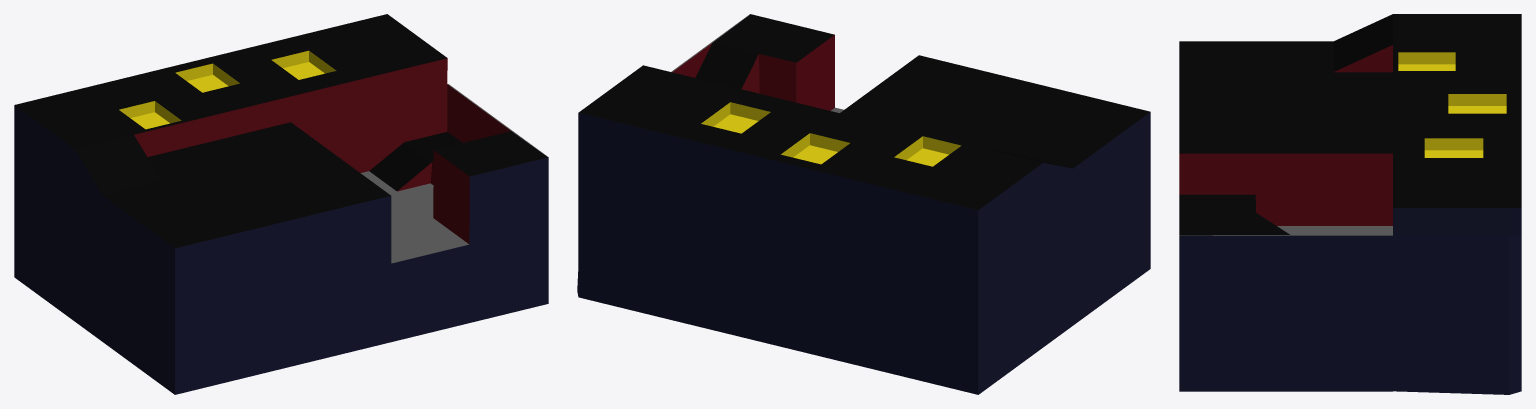
The model's file is first level tower.fbx.
The picture shows the model from 3 angles, left to right: view 1: azimuth 30°, elevation 25°; view 2: azimuth 150°, elevation 25°; view 3: azimuth 270°, elevation 25°; orthographic projection. The views are drawn at different scales.
Parts seen in each view (by area): view 1: Cube.072; view 2: Cube.072; view 3: Cube.072.
Part boxes in pixels (bbox=[...]): Cube.072: bbox=[14, 14, 548, 394]; Cube.072: bbox=[577, 14, 1150, 394]; Cube.072: bbox=[1179, 14, 1521, 394].
Size of the model in its own units: 19746 by 8555 by 14464.
